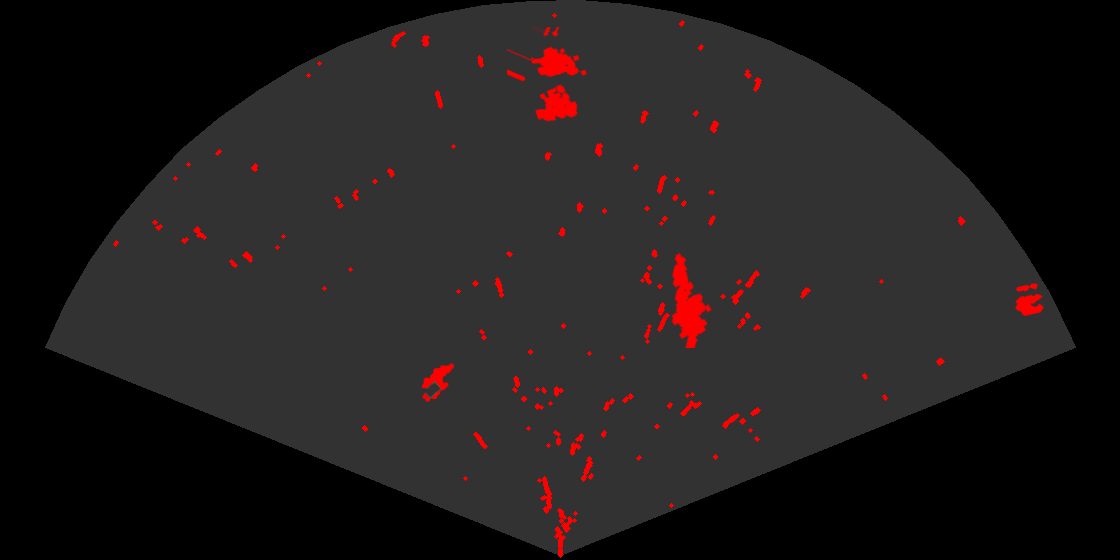AUV: (420, 362, 456, 403)
ball: (1014, 282, 1045, 318)
cage: (507, 27, 589, 124)
frogman: (670, 251, 714, 348)
